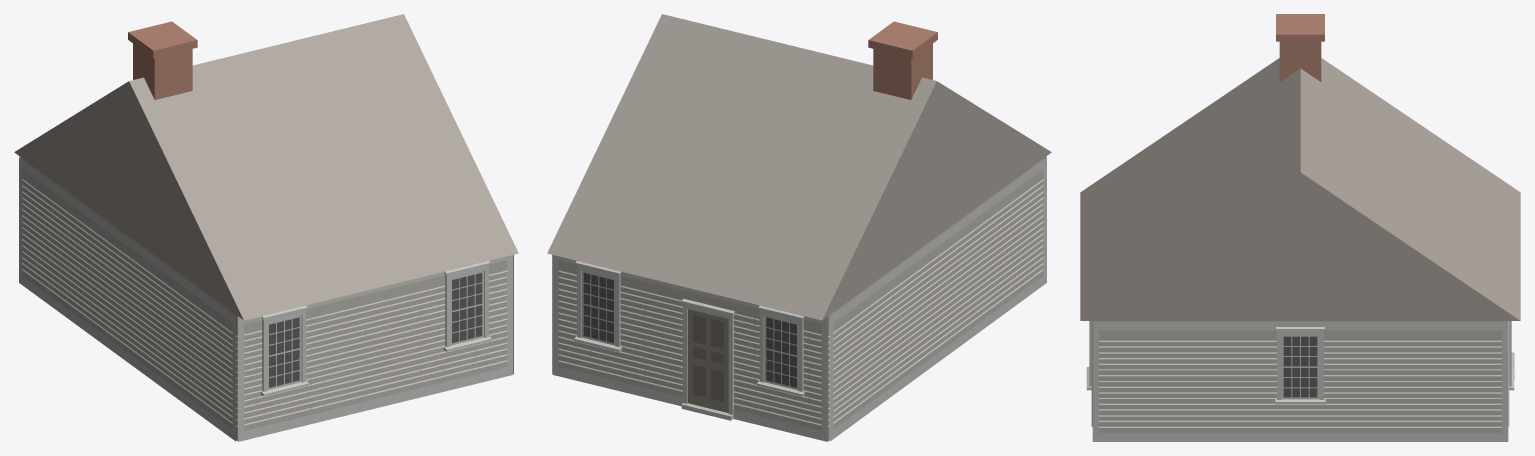
File: recon_1835_blk_west_randolph_des_plaines_d4_02__inferred_1835.glb
3 renders of one model, left to right at view 1: azimuth 30°, elevation 25°; view 2: azimuth 150°, elevation 25°; view 3: azimuth 270°, elevation 25°, orthographic. The views are drawn at different scales.
Visible parts, largest first — view 1: recon_1835_blk_west_randolph_des_plaines_d4_02__inferred_183; view 2: recon_1835_blk_west_randolph_des_plaines_d4_02__inferred_183; view 3: recon_1835_blk_west_randolph_des_plaines_d4_02__inferred_183.
Boxes of the visible parts, x1,y1,x2,y2 form: recon_1835_blk_west_randolph_des_plaines_d4_02__inferred_183: (14,14,518,441); recon_1835_blk_west_randolph_des_plaines_d4_02__inferred_183: (547,14,1051,441); recon_1835_blk_west_randolph_des_plaines_d4_02__inferred_183: (1080,14,1520,441).
Size of the model in its own units: 6.27 by 6.75 by 8.85.
